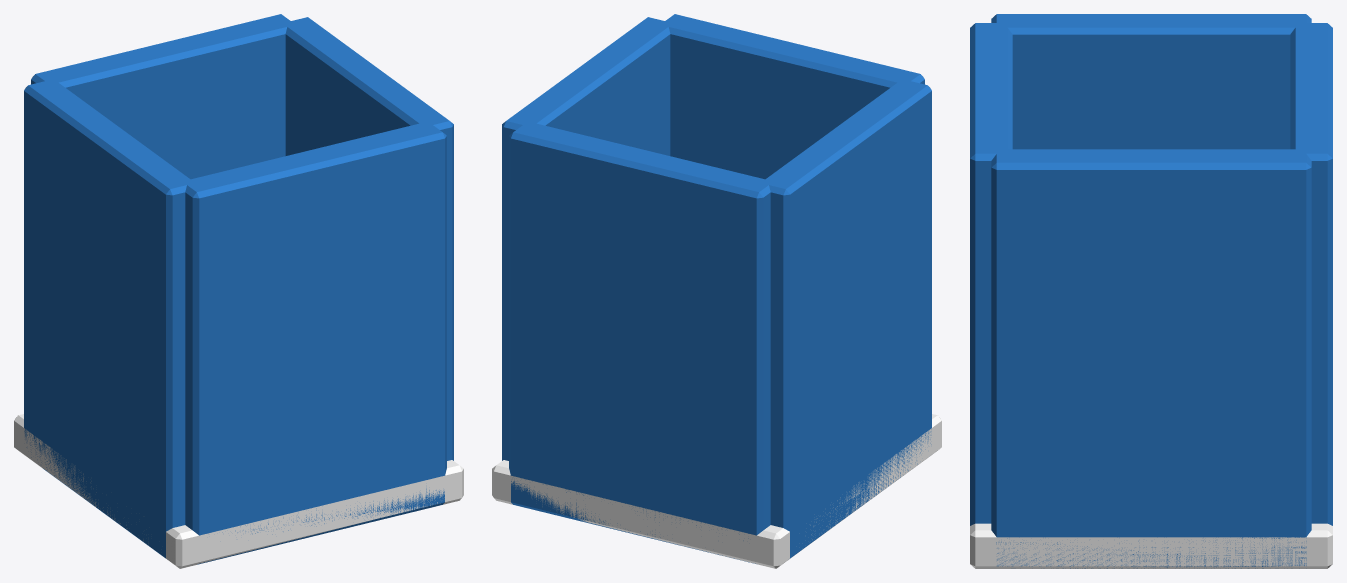
Rendered from rescue_cage.glb.
The picture shows the model from 3 angles, left to right: view 1: azimuth 30°, elevation 25°; view 2: azimuth 150°, elevation 25°; view 3: azimuth 270°, elevation 25°; orthographic projection. The views are drawn at different scales.
Parts seen in each view (by area): view 1: rescue_cage; view 2: rescue_cage; view 3: rescue_cage.
Boxes of the visible parts, box(x1,y1,x2,y2) form: rescue_cage: box(14, 14, 463, 568); rescue_cage: box(492, 14, 941, 568); rescue_cage: box(970, 14, 1332, 568).
Size of the model in its own units: 0.34 by 0.42 by 0.34.
